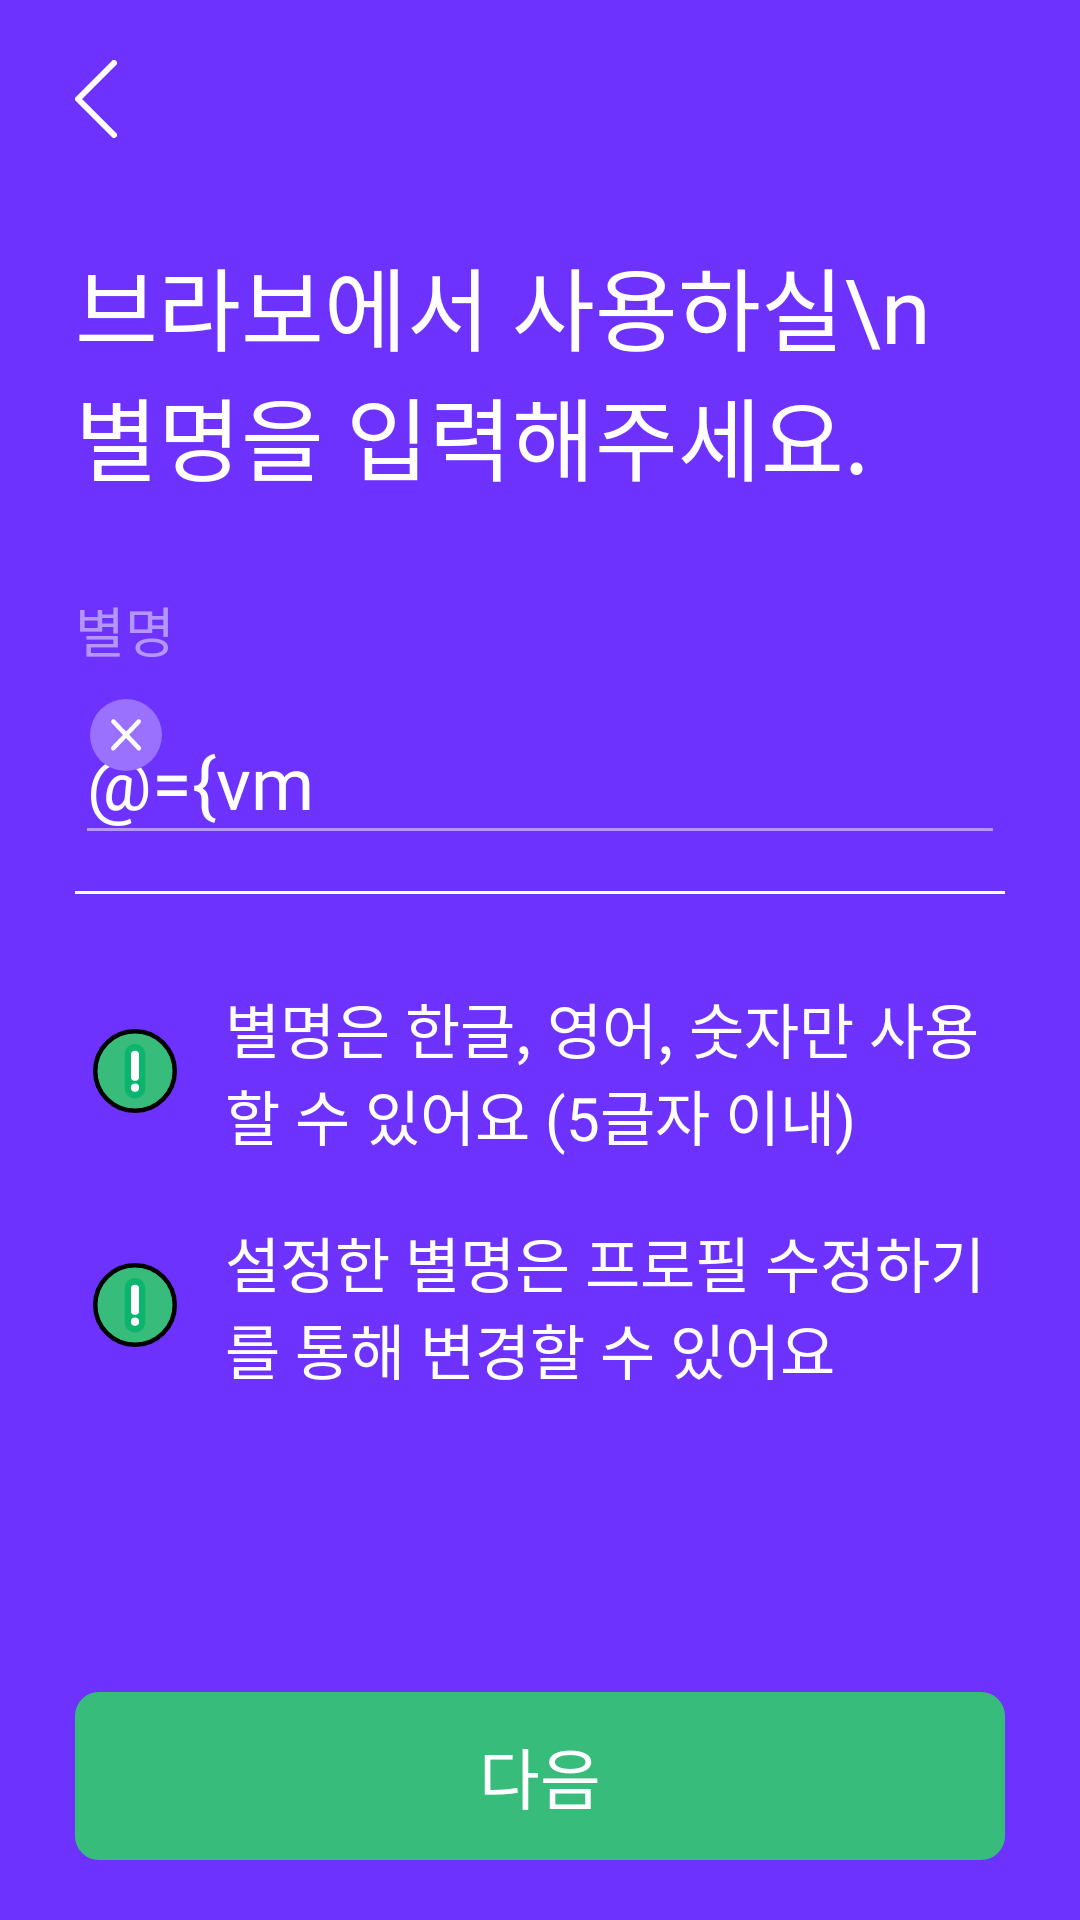

Point at icon controls on the screen. Image size 1080*1920, points as (x=x, y=y).
back: (x=96, y=99)
delete: (x=126, y=735)
notice: (x=135, y=1071), (x=135, y=1305)
